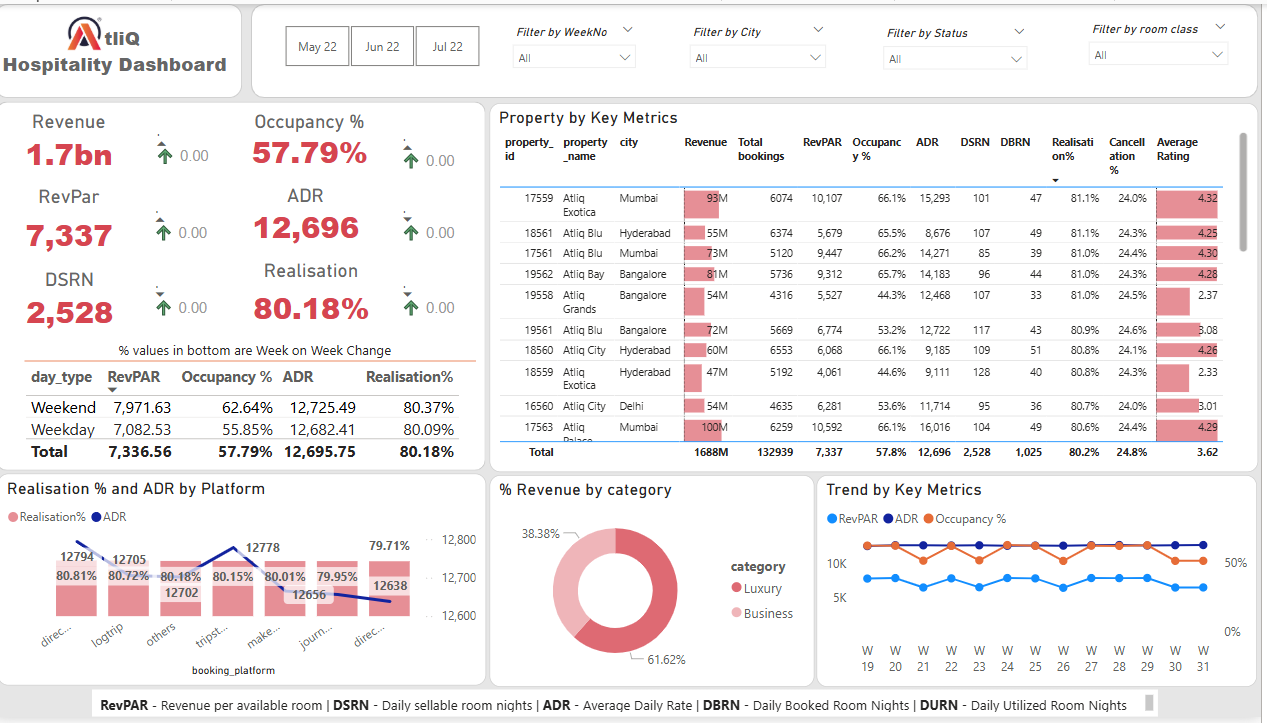

This screenshot's page, from the dashboard's own definition file:
{"tool":"powerbi","page":{"name":"Dashboard","canvas":[1280,720],"ordinal":2},"visuals":[{"type":"shape","box":[260,0,1016.7,95],"z":0},{"type":"shape","box":[2.9,98.6,494.3,372.9],"z":1000},{"type":"shape","box":[1.7,0,250,95],"z":2000},{"type":"slicer","fields":{"Values":["dim_rooms.room_class"]},"box":[953.9,15.1,160.5,54.5],"z":3000},{"type":"slicer","fields":{"Values":["fact_booking.booking_status"]},"box":[805.6,13.6,148.4,56],"z":4000},{"type":"slicer","fields":{"Values":["dim_hotels.city"]},"box":[658.7,12.1,146.9,56],"z":5000},{"type":"slicer","fields":{"Values":["dim_date.week no"]},"box":[514.8,15.1,143.8,53],"z":6000},{"type":"slicer","fields":{"Values":["fact_booking.booking_platform"]},"box":[1114.5,15.1,162,53],"z":7000},{"type":"group","id":"g1","title":"Group 2","box":[0,107.5,152.9,226.4],"z":8000},{"type":"card","title":"Revenue","fields":{"Values":["Key_measure.Revenue"]},"box":[0,107.5,152.9,66.6],"z":8000,"group":"g1"},{"type":"group","id":"g2","title":"Group 1","box":[245.1,107,148.3,227.3],"z":9000},{"type":"card","title":"Occupancy %","fields":{"Values":["Key_measure.Occupancy %"]},"box":[245.1,107,148.3,61.7],"z":9000,"group":"g2"},{"type":"card","title":"RevPar","fields":{"Values":["Key_measure.RevPAR"]},"box":[0,183,152.9,78.7],"z":9000,"group":"g1"},{"type":"textbox","box":[27.3,334.6,473.9,33.3],"z":10000},{"type":"card","title":"DSRN","fields":{"Values":["Key_measure.DSRN"]},"box":[1.5,267.2,151.4,66.6],"z":11000,"group":"g1"},{"type":"shape","box":[31.8,352.8,455.8,15.1],"z":11000},{"type":"card","title":"ADR","fields":{"Values":["Key_measure.ADR"]},"box":[251.4,180.5,128.2,65.1],"z":12000,"group":"g2"},{"type":"tableEx","fields":{"Values":["dim_date.day_type","Key_measure.RevPAR","Key_measure.Occupancy %","Key_measure.ADR","Key_measure.Realisation%"]},"box":[27.3,360.4,464.9,110.5],"z":12000},{"type":"tableEx","fields":{"Values":["Key_measure.Occupancy WoW change %"]},"box":[154.4,113.6,90.9,69.7],"z":13000},{"type":"card","title":"Realisation","fields":{"Values":["Key_measure.Realisation%"]},"box":[249.8,256.5,142.4,77.8],"z":13000,"group":"g2"},{"type":"tableEx","fields":{"Values":["Key_measure.Occupancy WoW change %"]},"box":[402.8,118.1,89.3,66.6],"z":14000},{"type":"tableEx","fields":{"Values":["Key_measure.ADR WoW change %"]},"box":[152.9,190.8,90.9,65.1],"z":15000},{"type":"tableEx","fields":{"Values":["Key_measure.ADR WoW change %"]},"box":[402.8,190.8,133.3,81.8],"z":16000},{"type":"tableEx","fields":{"Values":["Key_measure.Realisation WoW change %"]},"box":[152.9,266.5,90.9,66.6],"z":17000},{"type":"group","id":"g3","title":"Group 3","box":[402.8,266.5,128.7,80.3],"z":18000},{"type":"tableEx","title":"Property by Key Metrics","fields":{"Values":["dim_hotels.property_id","dim_hotels.property_name","dim_hotels.city","Key_measure.Revenue","Key_measure.Total bookings","Key_measure.RevPAR","Key_measure.Occupancy %","Key_measure.ADR","Key_measure.DSRN","Key_measure.DBRN","Key_measure.Realisation%","Key_measure.Cancellation %"]},"box":[501.4,100,775.7,372.9],"z":19000},{"type":"lineStackedColumnComboChart","title":"Realisation % and ADR by Platform","fields":{"Category":["fact_booking.booking_platform"],"Y":["Key_measure.Realisation%"],"Y2":["Key_measure.ADR"]},"box":[4.6,473.6,493.3,214],"z":20000},{"type":"lineChart","title":"Trend by Key Metrics","fields":{"Category":["dim_date.mmm yy.Variation.Date Hierarchy.Month","dim_date.week no"],"Y2":["Key_measure.Occupancy %"],"Y":["Key_measure.RevPAR","Key_measure.ADR"]},"box":[831.8,475.1,444.7,214],"z":21000},{"type":"donutChart","title":"% Revenue by category","fields":{"Category":["dim_hotels.category"],"Y":["Key_measure.Revenue"]},"box":[500.9,475.1,327.8,214],"z":22000},{"type":"textbox","box":[100.2,692.1,1076.1,27.3],"z":23000},{"type":"textbox","box":[5,15,265,68.3],"z":24000},{"type":"image","box":[69.7,0,45.4,59.1],"z":25000},{"type":"slicer","fields":{"Values":["dim_date.mmm yy"]},"box":[269.5,15.1,245.3,54.5],"z":27000},{"type":"tableEx","fields":{"Values":["Key_measure.Realisation WoW change %"]},"box":[402.8,266.5,127.7,80],"z":29000,"group":"g3"}]}

Visuals, with their boxes in screenshot pixels (x1, y1, x2, y2), scaled from the page's 1280x720 canvas onto the 1267x723 screenshot:
shape: l=257, t=0, r=1264, b=95
shape: l=3, t=99, r=492, b=473
shape: l=2, t=0, r=249, b=95
slicer - dim_rooms.room_class: l=944, t=15, r=1103, b=70
slicer - fact_booking.booking_status: l=797, t=14, r=944, b=70
slicer - dim_hotels.city: l=652, t=12, r=797, b=68
slicer - dim_date.week no: l=510, t=15, r=652, b=68
slicer - fact_booking.booking_platform: l=1103, t=15, r=1264, b=68
"Group 2" group: l=0, t=108, r=151, b=335
"Revenue" card: l=0, t=108, r=151, b=175
"Group 1" group: l=243, t=107, r=389, b=336
"Occupancy %" card: l=243, t=107, r=389, b=169
"RevPar" card: l=0, t=184, r=151, b=263
textbox: l=27, t=336, r=496, b=369
"DSRN" card: l=1, t=268, r=151, b=335
shape: l=31, t=354, r=483, b=369
"ADR" card: l=249, t=181, r=376, b=247
tableEx - dim_date.day_type x Key_measure.RevPAR: l=27, t=362, r=487, b=473
tableEx - Key_measure.Occupancy WoW change %: l=153, t=114, r=243, b=184
"Realisation" card: l=247, t=258, r=388, b=336
tableEx - Key_measure.Occupancy WoW change %: l=399, t=119, r=487, b=185
tableEx - Key_measure.ADR WoW change %: l=151, t=192, r=241, b=257
tableEx - Key_measure.ADR WoW change %: l=399, t=192, r=531, b=274
tableEx - Key_measure.Realisation WoW change %: l=151, t=268, r=241, b=334
"Group 3" group: l=399, t=268, r=526, b=348
"Property by Key Metrics" tableEx: l=496, t=100, r=1264, b=475
"Realisation % and ADR by Platform" lineStackedColumnComboChart: l=5, t=476, r=493, b=690
"Trend by Key Metrics" lineChart: l=823, t=477, r=1264, b=692
"% Revenue by category" donutChart: l=496, t=477, r=820, b=692
textbox: l=99, t=695, r=1164, b=722
textbox: l=5, t=15, r=267, b=84
image: l=69, t=0, r=114, b=59
slicer - dim_date.mmm yy: l=267, t=15, r=510, b=70
tableEx - Key_measure.Realisation WoW change %: l=399, t=268, r=525, b=348
